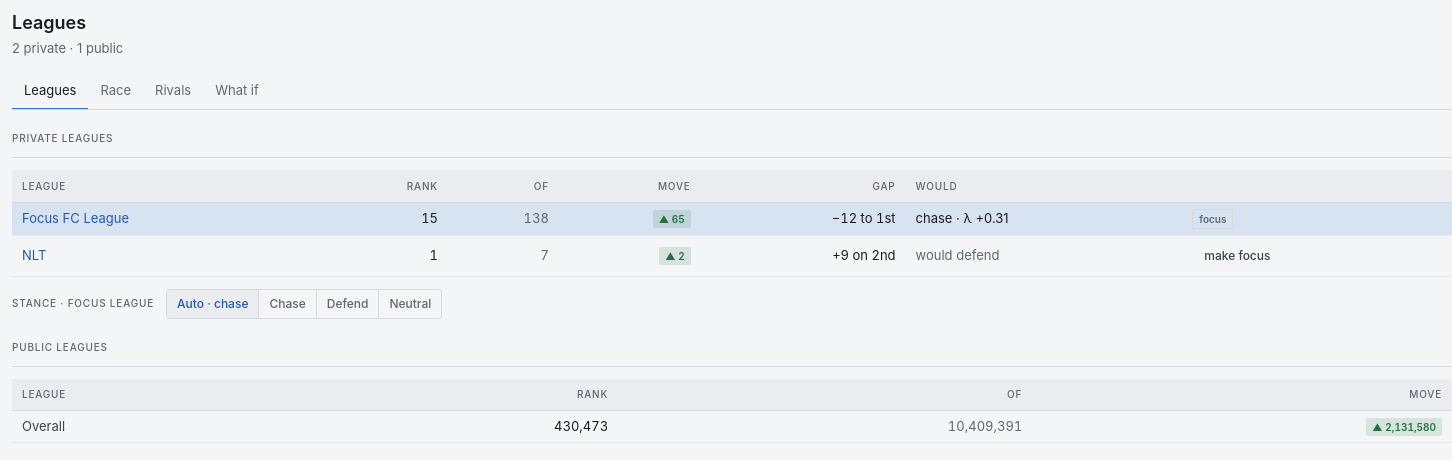
Test: the Leagues tab, the URL league and the two writes › toasts a refused write and keeps the page
Expected: the row with test id "league-9" is shown, 12,235 -> 1451,276
Click the button "Chase".
click(288, 304)  # box 260,290 -> 317,318
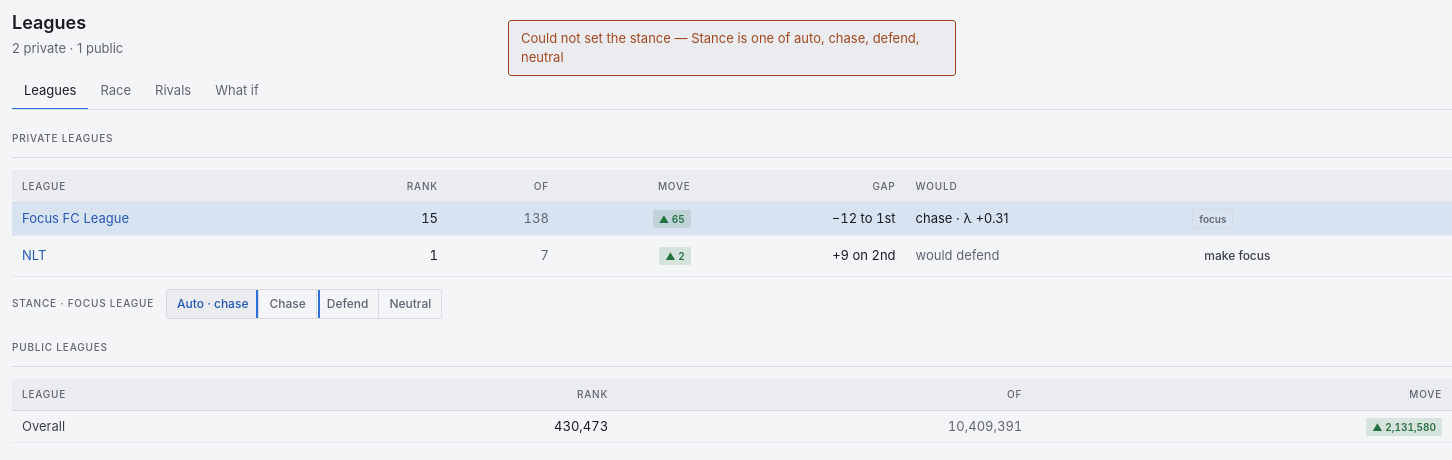
Expected: the row with test id "league-9" is shown, 12,235 -> 1451,276
Expected: the text "Could not set the stance" is shown, 521,30 -> 920,65
